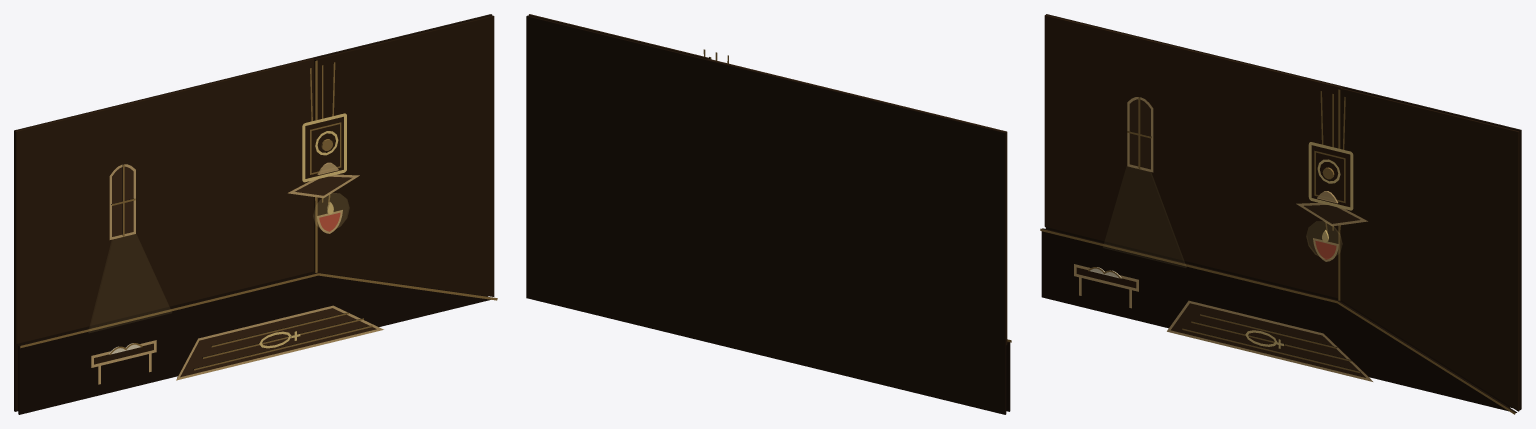
The model's file is loc-kelia.glb.
3 views of the same model, side by side, from view 1: azimuth 30°, elevation 25°; view 2: azimuth 150°, elevation 25°; view 3: azimuth 330°, elevation 25° (orthographic).
Parts seen in each view (by area): view 1: loc-kelia; view 2: loc-kelia; view 3: loc-kelia.
Boxes of the visible parts, x1,y1,x2,y2 form: loc-kelia: (14,14,497,414); loc-kelia: (526,14,1011,414); loc-kelia: (1040,14,1521,414).
Size of the model in its own units: 5.34 by 3.01 by 0.521.
